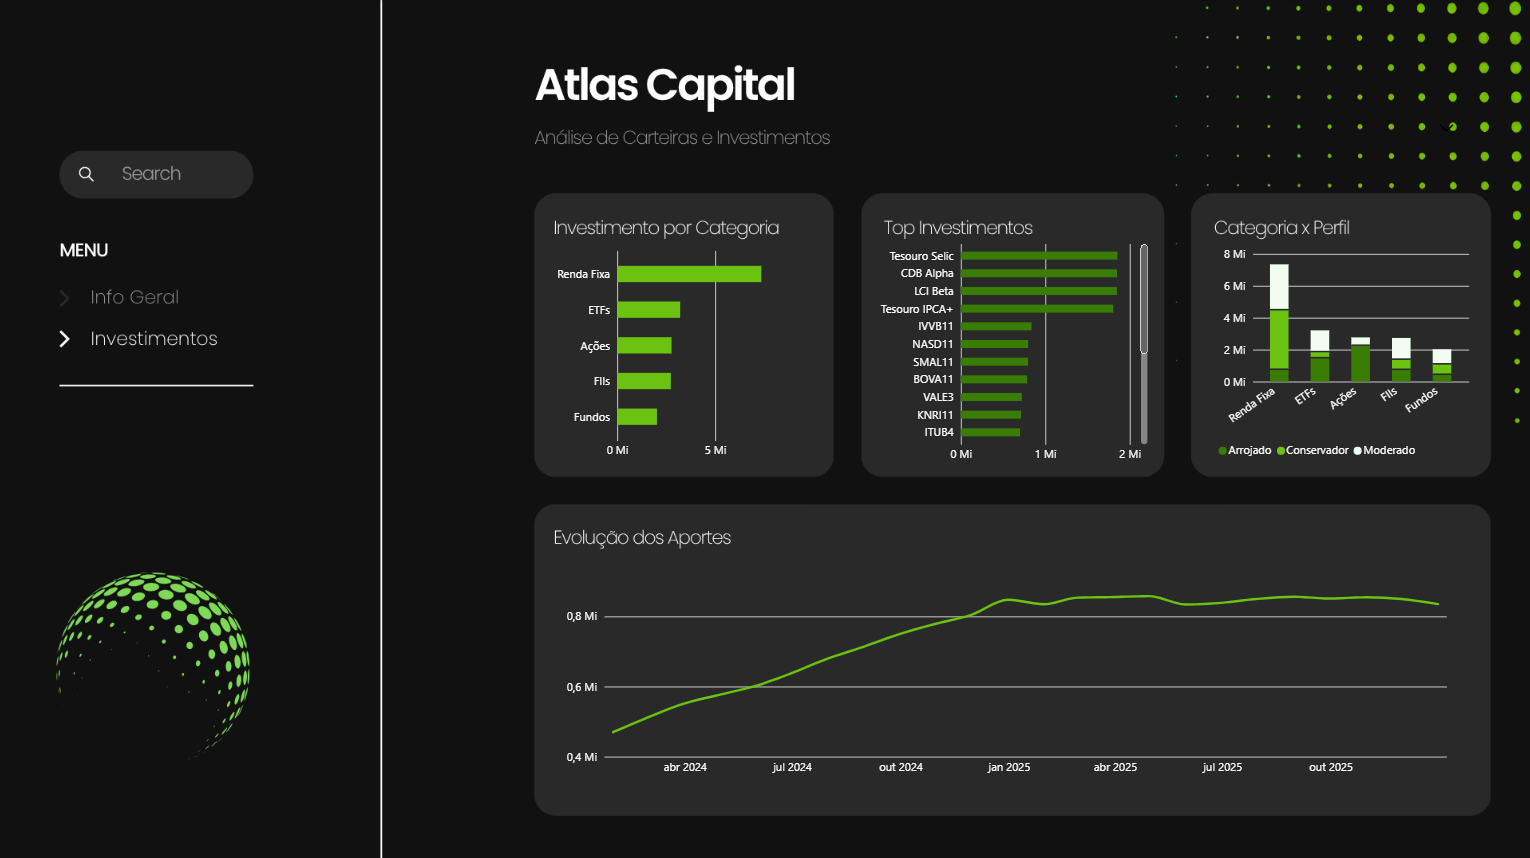

Layout of this report page (visuals, bound fields, positions):
{"tool":"powerbi","page":{"name":"Investimentos","canvas":[1920,1080],"ordinal":1},"visuals":[{"type":"clusteredBarChart","fields":{"Category":["atlas_capital investments.category"],"Y":["Sum(atlas_capital transactions.invested_value)"]},"box":[677,293.9,324.5,301.9],"z":0},{"type":"clusteredBarChart","fields":{"Category":["atlas_capital investments.investment_name"],"Y":["Sum(atlas_capital transactions.invested_value)"]},"box":[1041.4,286,413.6,315.2],"z":1000},{"type":"columnChart","fields":{"Category":["atlas_capital investments.category"],"Series":["atlas_capital investors.investor_profile"],"Y":["Sum(atlas_capital transactions.invested_value)"]},"box":[1510.9,293.9,347.1,301.9],"z":2000},{"type":"lineChart","fields":{"Category":["atlas_capital contributions.contribution_date"],"Y":["Sum(atlas_capital contributions.amount)"]},"box":[695,706.7,1151.7,286.7],"z":3000},{"type":"actionButton","box":[70.9,352.4,174.2,39.9],"z":3001}]}

Visuals, with their boxes on the page's 1920x1080 design canvas (x1, y1, x2, y2). These are canvas units, not pixel positions in the 1530x858 screenshot, which may show the page scaled, cropped or inside an application window:
clusteredBarChart - atlas_capital investments.category x Sum(atlas_capital transactions.invested_value): 677, 294, 1002, 596
clusteredBarChart - atlas_capital investments.investment_name x Sum(atlas_capital transactions.invested_value): 1041, 286, 1455, 601
columnChart - atlas_capital investments.category x atlas_capital investors.investor_profile: 1511, 294, 1858, 596
lineChart - atlas_capital contributions.contribution_date x Sum(atlas_capital contributions.amount): 695, 707, 1847, 993
actionButton: 71, 352, 245, 392
